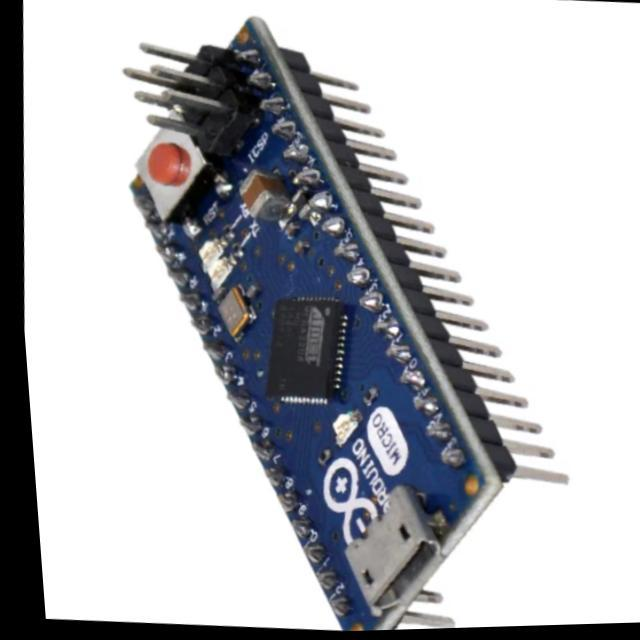Arduino-Micro: (126, 19, 524, 630)
